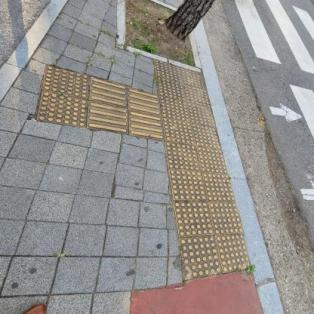Podoctatil: (27, 46, 258, 285)
